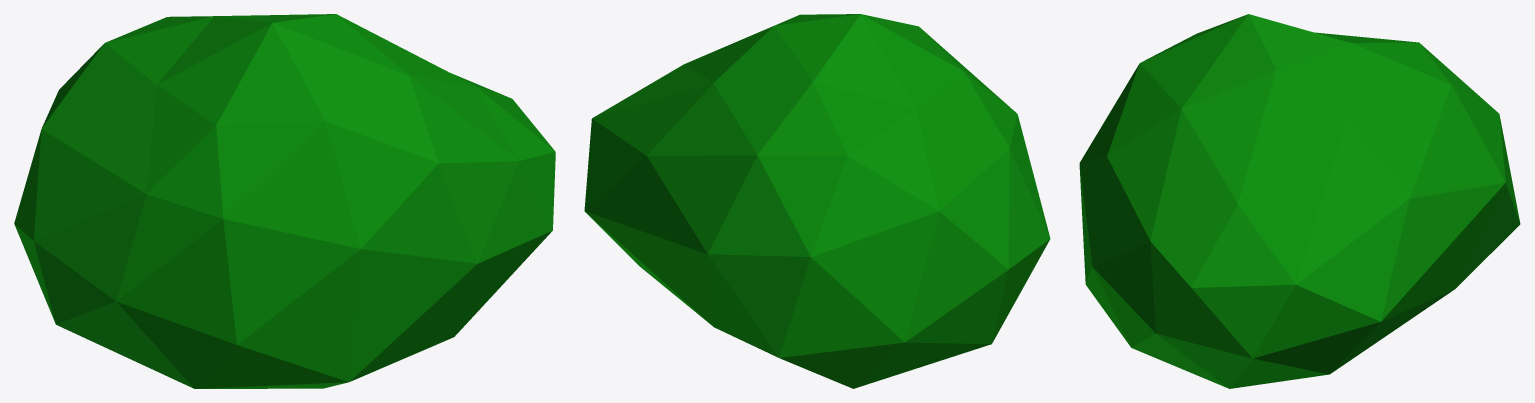
The model's file is lp_tree1_Icosphere_018.obj.
3 renders of one model, left to right at view 1: azimuth 30°, elevation 25°; view 2: azimuth 150°, elevation 25°; view 3: azimuth 270°, elevation 25°, orthographic. The views are drawn at different scales.
Visible parts, largest first — view 1: lp_tree1_Icosphere_018; view 2: lp_tree1_Icosphere_018; view 3: lp_tree1_Icosphere_018.
Part boxes in pixels (<box>): lp_tree1_Icosphere_018: <box>14,14,555,388</box>; lp_tree1_Icosphere_018: <box>584,14,1050,388</box>; lp_tree1_Icosphere_018: <box>1079,14,1520,388</box>.
Bounding box in the file's own units: 7.09 × 4.95 × 6.1.
